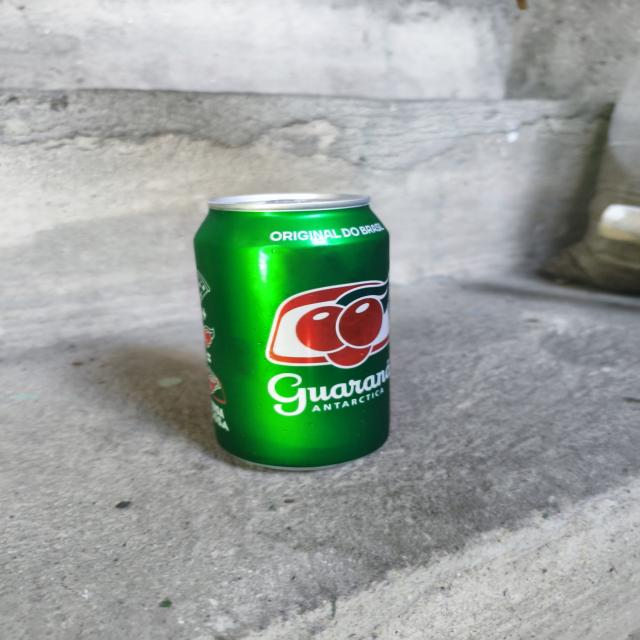Guarana: (186, 182, 413, 480)
